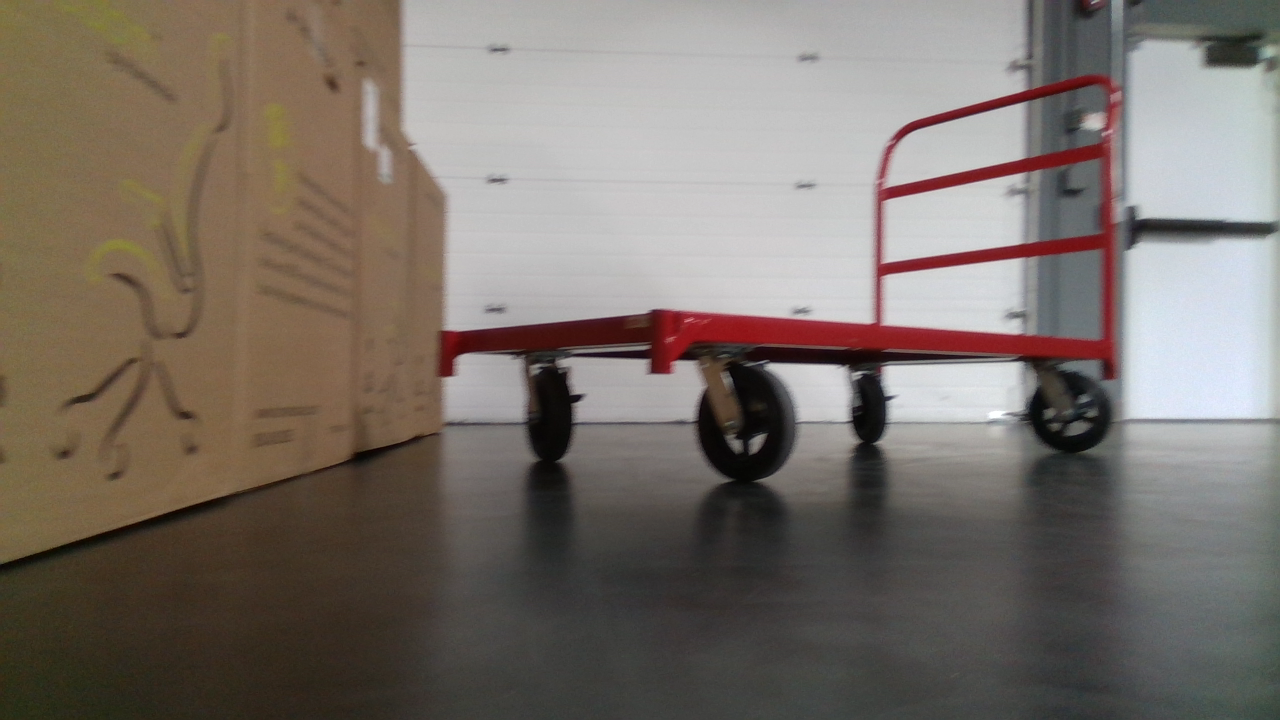Dolly: (425, 54, 1137, 485)
Wheel: (692, 361, 801, 484), (1025, 370, 1114, 454), (522, 364, 581, 465), (847, 370, 894, 447)
